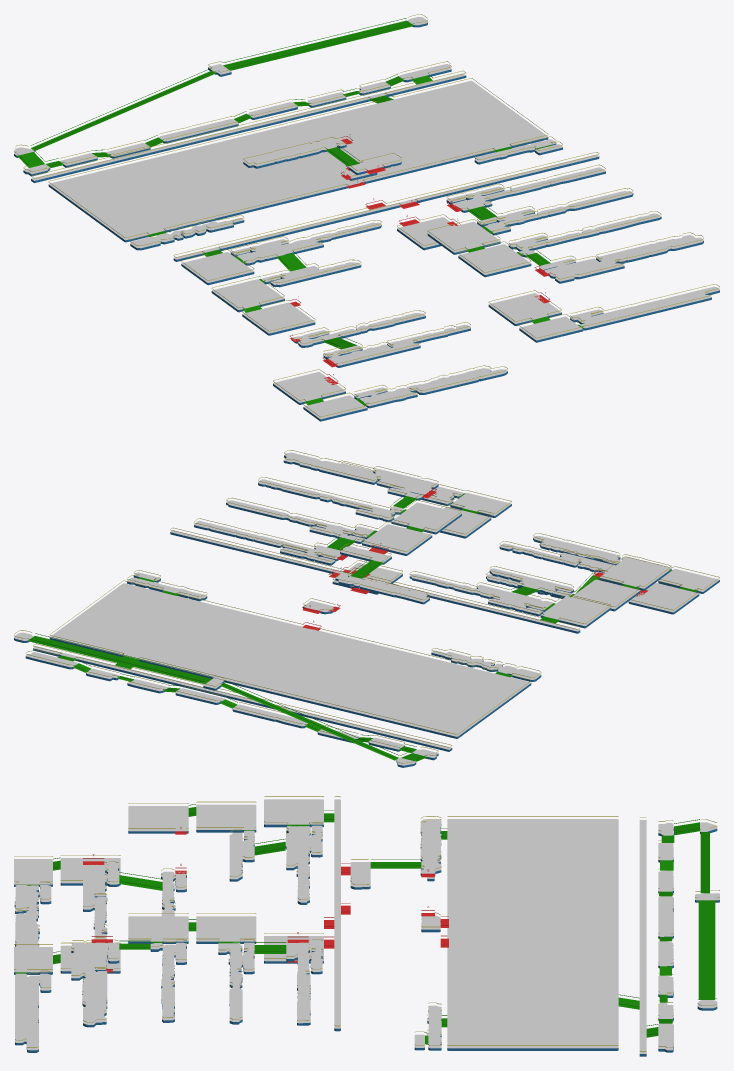
File: aid-dcc2.dae
3 views of the same model, one above another, from view 1: azimuth 30°, elevation 25°; view 2: azimuth 150°, elevation 25°; view 3: azimuth 270°, elevation 25° (orthographic). The views are drawn at different scales.
Parts seen in each view (by area): view 1: top, side, guardrails, bridges, elevator; view 2: top, side, guardrails, bridges, elevator; view 3: top, bridges, side, guardrails, elevator.
Part boxes in pixels (x1,y1,x2,y2): top: (14,17,719,419); side: (14,22,719,421); guardrails: (14,14,719,417); bridges: (17,18,583,405); elevator: (290,134,550,384); top: (14,452,719,765); side: (14,455,719,767); guardrails: (14,450,719,763); bridges: (28,490,697,761); elevator: (302,488,648,630); top: (14,799,719,1053); bridges: (16,804,715,1044); side: (14,824,719,1056); guardrails: (14,796,719,1051); elevator: (83,827,448,972).
Bounding box in the file's own units: 10.21 × 13.02 × 2.22.
